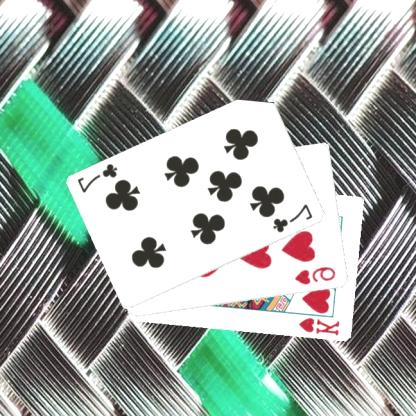7C: (76, 160, 122, 194), (272, 201, 316, 234)
9H: (294, 264, 340, 286)
KH: (298, 315, 343, 337)
